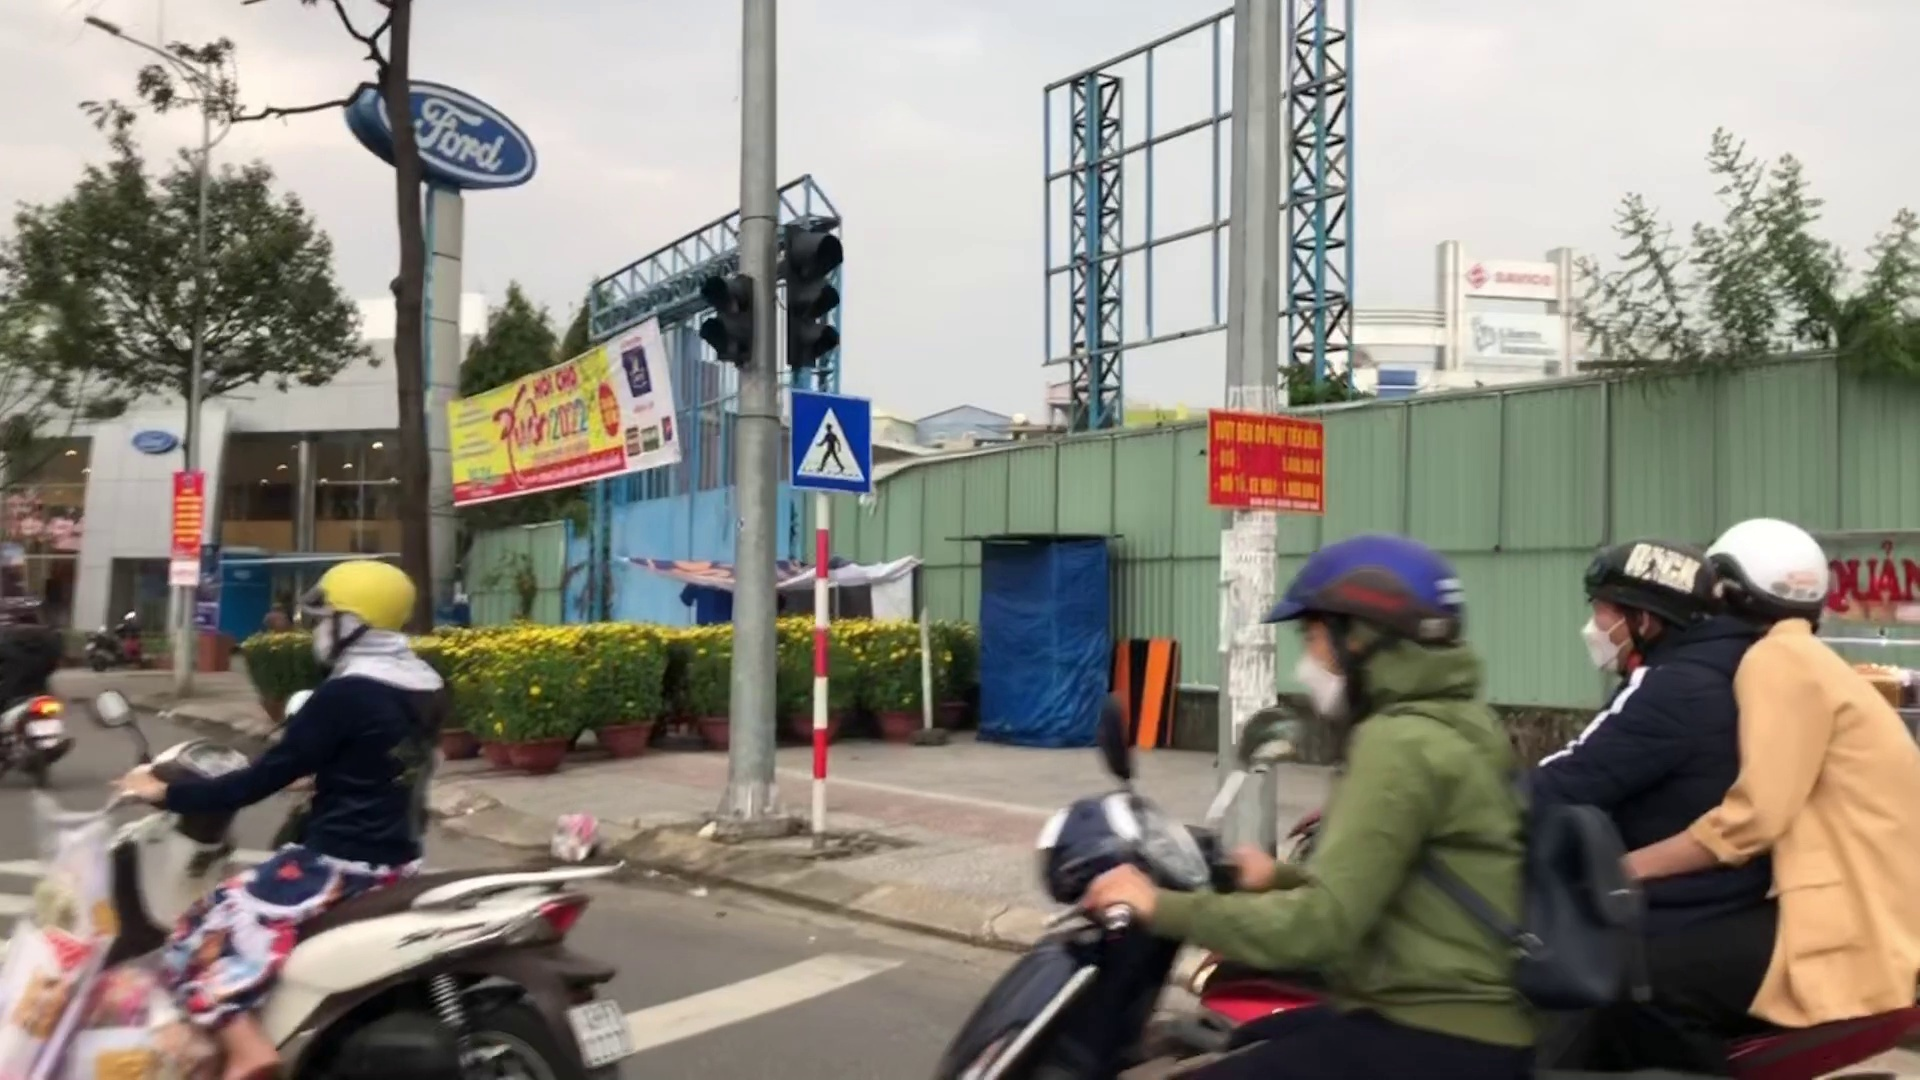Nguoi di bo: (787, 385, 870, 489)
